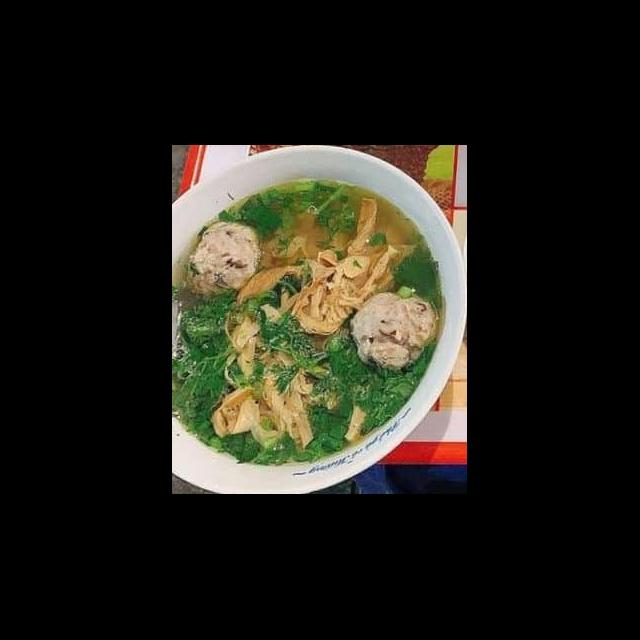vien moc: (344, 286, 442, 372), (182, 218, 266, 302)
